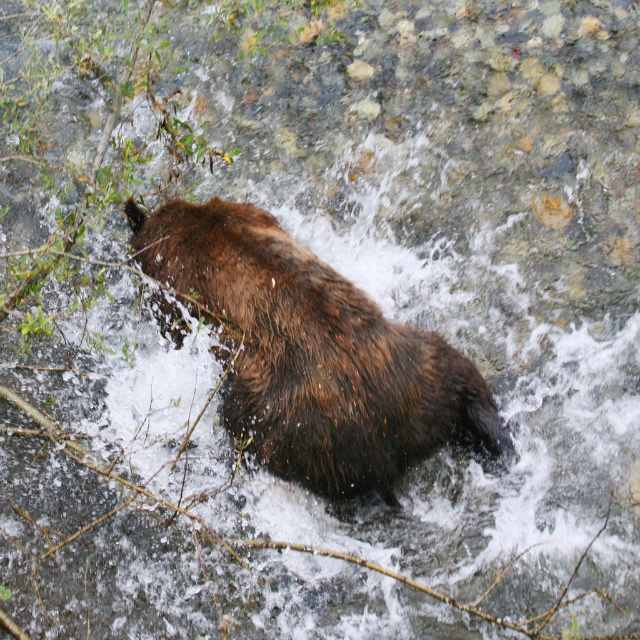Brown bear: (123, 192, 517, 523)
